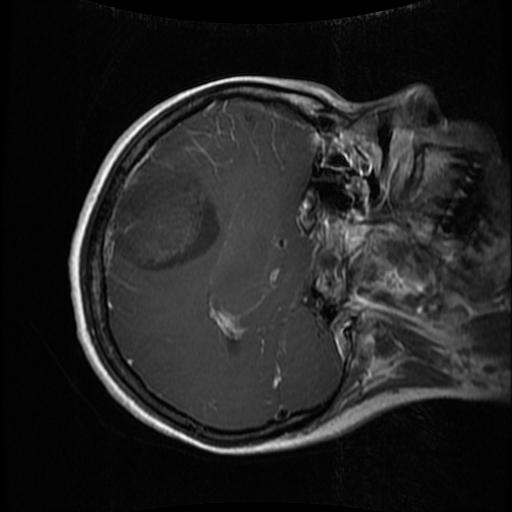glioma: (113, 171, 218, 276)
